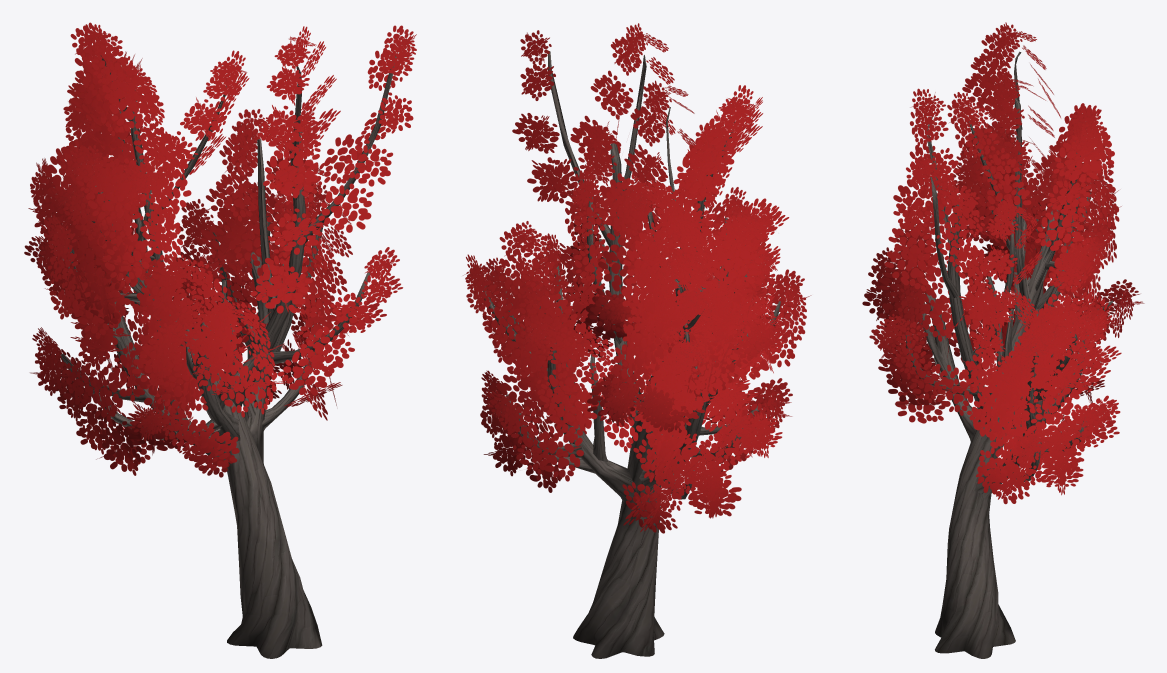
File: twist2.glb
3 renders of one model, left to right at view 1: azimuth 30°, elevation 25°; view 2: azimuth 150°, elevation 25°; view 3: azimuth 270°, elevation 25°, orthographic. The views are drawn at different scales.
Parts seen in each view (by area): view 1: TwistedTree_2; view 2: TwistedTree_2; view 3: TwistedTree_2.
Part boxes in pixels (box(x1,y1,x2,y2)): TwistedTree_2: box(24, 22, 416, 658); TwistedTree_2: box(463, 23, 811, 658); TwistedTree_2: box(862, 22, 1144, 658).
Size of the model in its own units: 10.56 by 18.95 by 9.2.
Materials: 2 (2 with a texture image).
